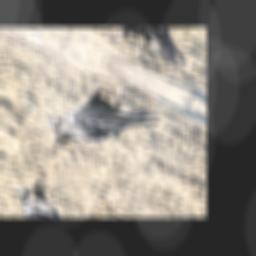Crow: (37, 57, 169, 179)
